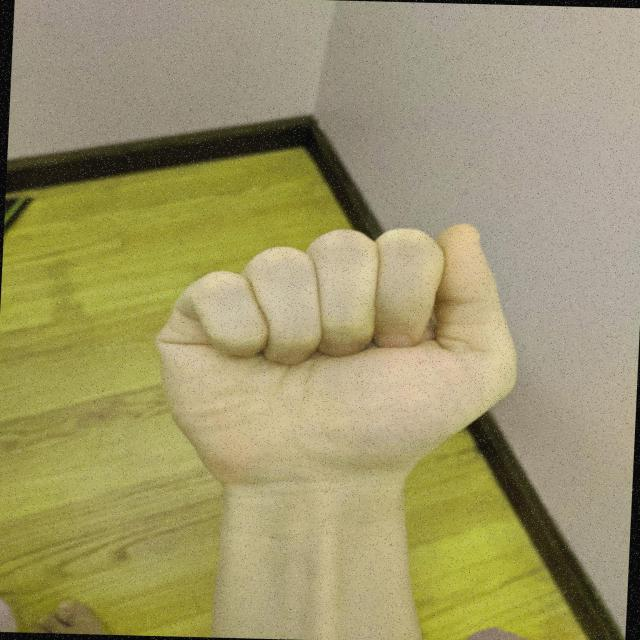A: (140, 211, 530, 502)
